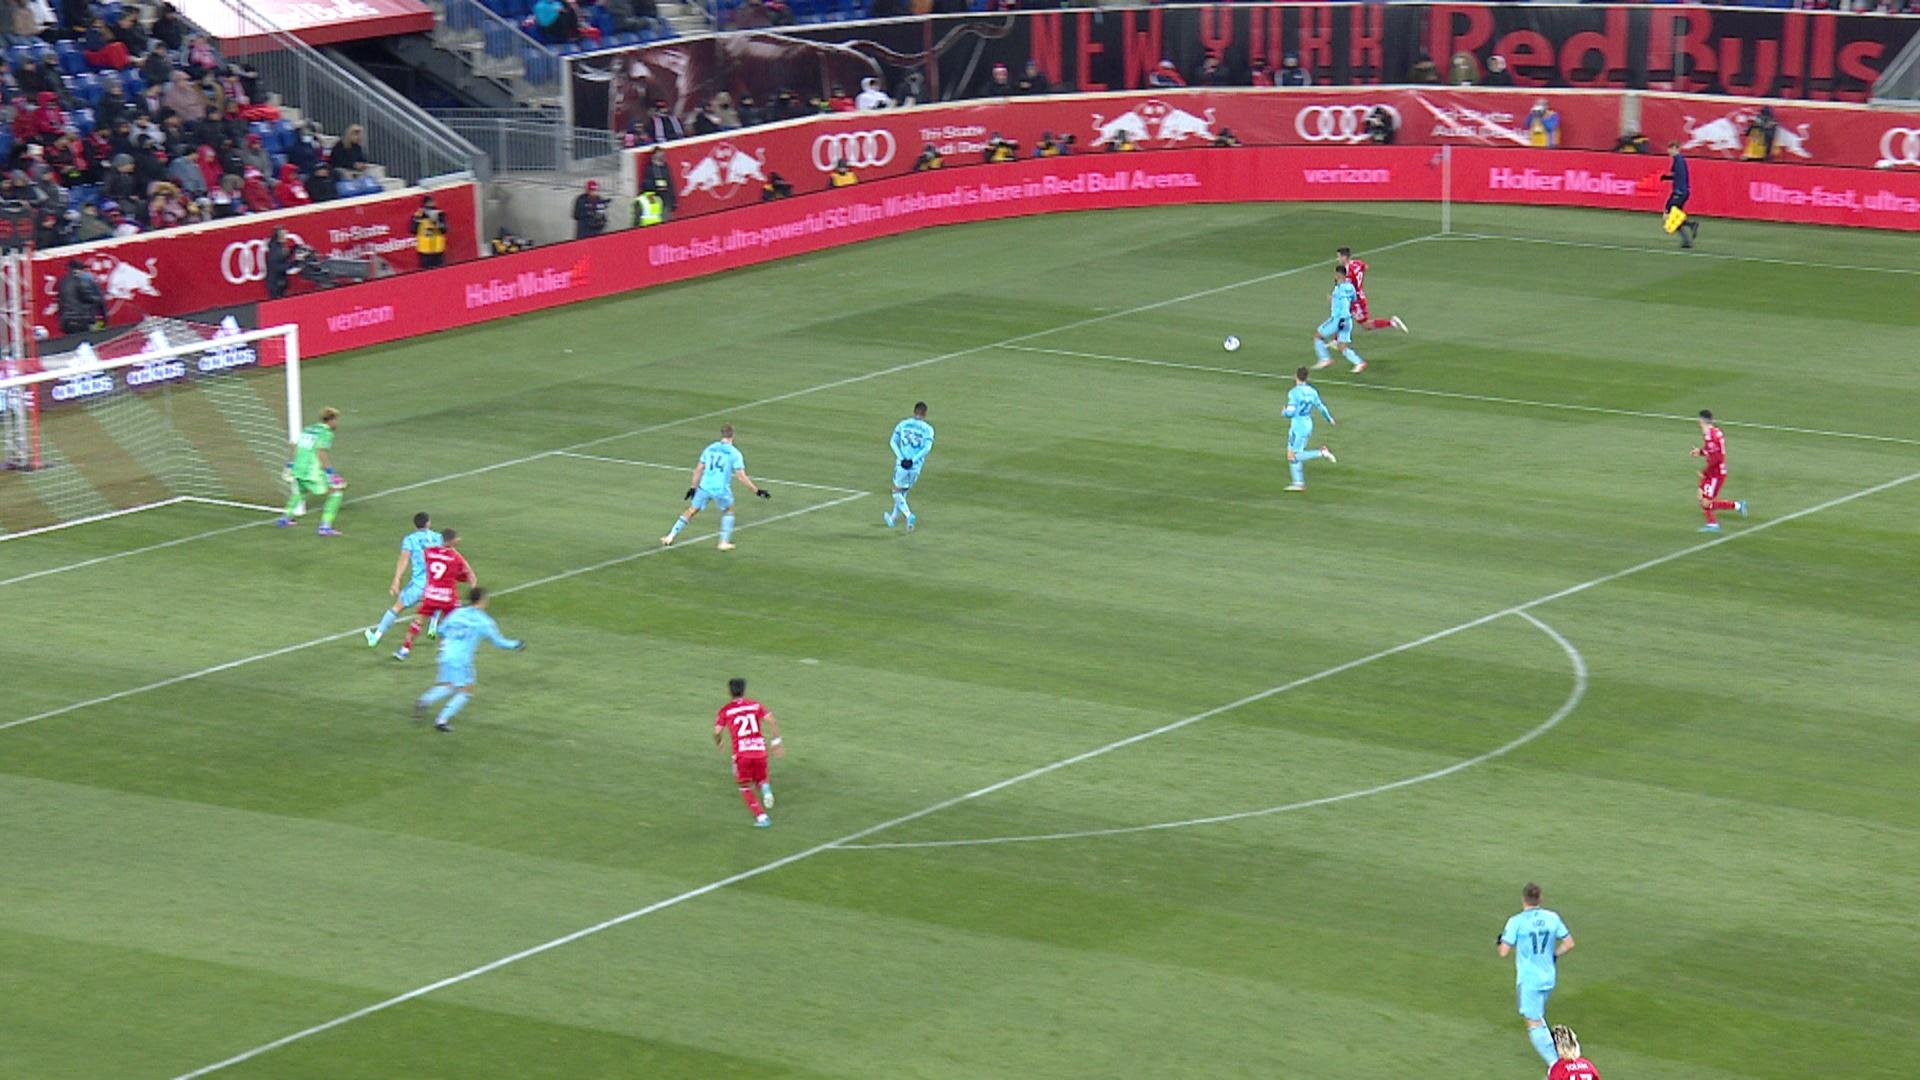football: (1222, 336, 1241, 352)
